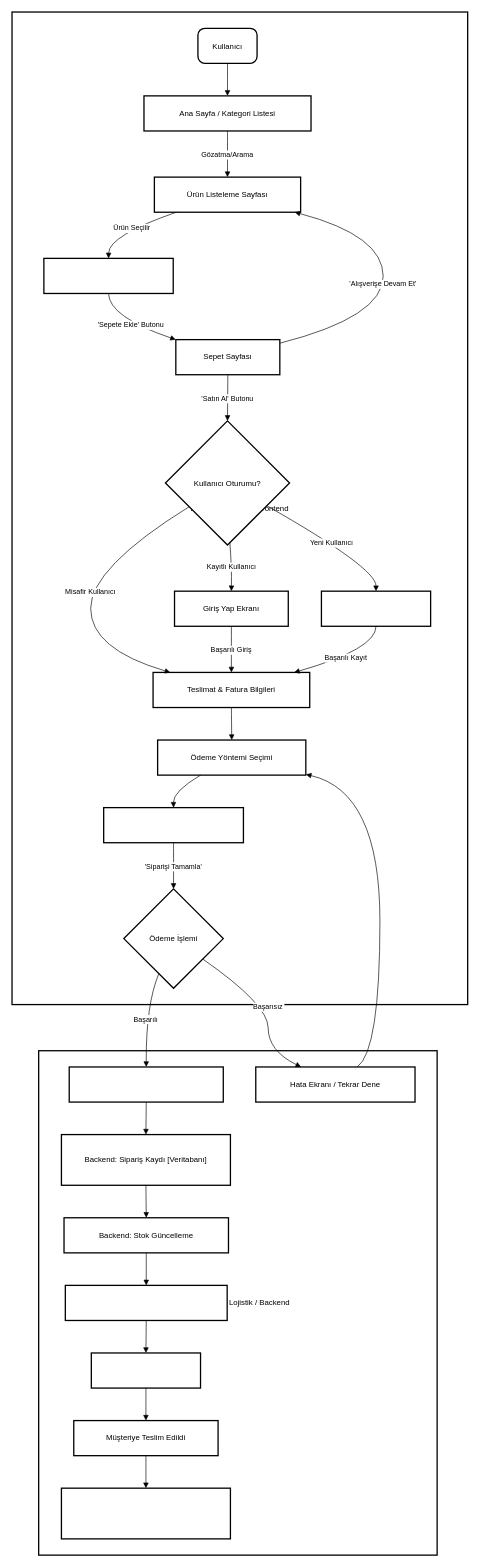
The diagram is 479 pixels wide and 1567 high, and some of its shapes have lost their labels. Each missing label, with the centre of its shape:
Kargoya Verildi: [145,1370]
Kayıt Ol Ekranı: [375,608]
Satış Sonrası Destek [İade/Yorum]: [145,1513]
Sipariş Hazırlama [Lojistik]: [146,1302]
Sipariş Onaylandı Ekranı: [146,1084]
Sipariş Özeti ve Onay: [173,825]
Ürün Detay Sayfası: [108,275]
